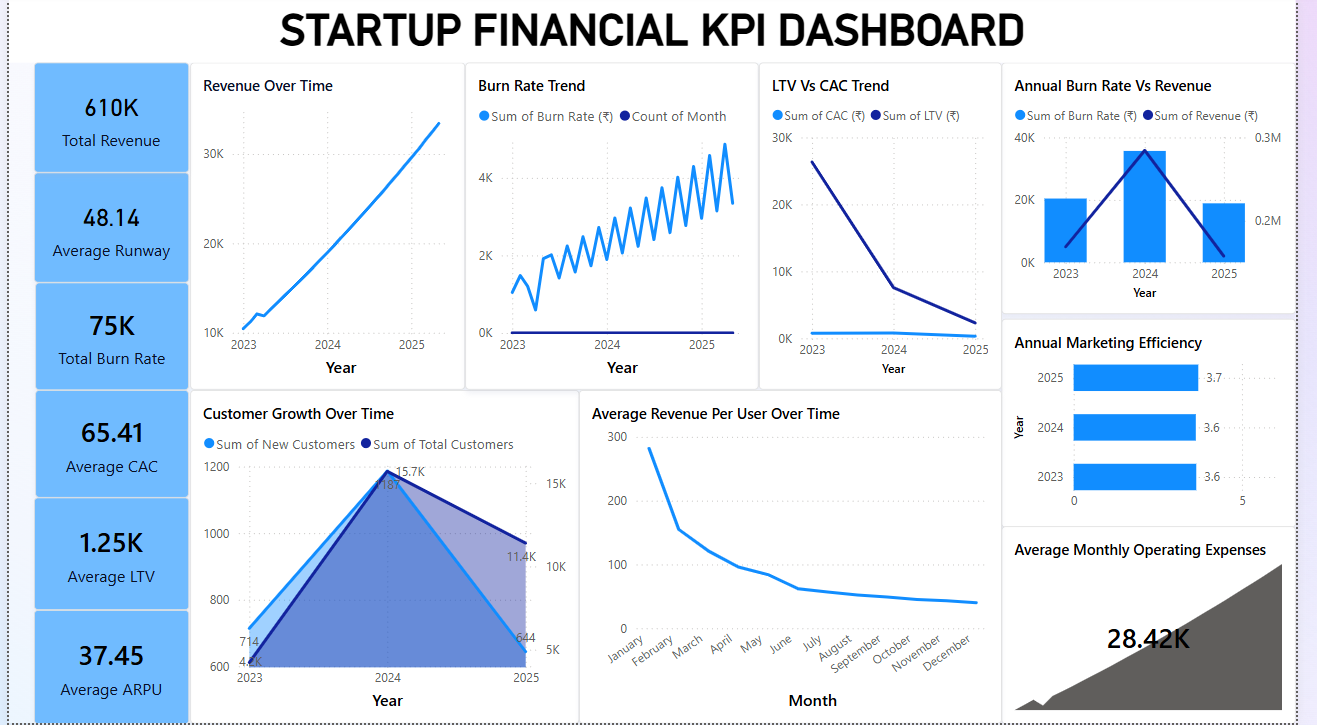

The page's visual inventory and layout, read from the dashboard file:
{"tool":"powerbi","page":{"name":"Page 1","canvas":[1280,720],"ordinal":0},"visuals":[{"type":"card","fields":{"Values":["Sheet1.Average Runway"]},"box":[24.9,171.7,154.3,109.5],"z":0},{"type":"card","fields":{"Values":["Sheet1.Total Burn Rate"]},"box":[26.1,281.1,153,107],"z":1000},{"type":"card","fields":{"Values":["Sheet1.Average CAC"]},"box":[26.1,388.1,153,107],"z":2000},{"type":"card","fields":{"Values":["Sheet1.Average LTV"]},"box":[24.9,495.1,154.3,112],"z":3000},{"type":"lineChart","title":"Revenue Over Time","fields":{"Category":["Sheet1.Month.Variation.Date Hierarchy.Year","Sheet1.Month.Variation.Date Hierarchy.Quarter","Sheet1.Month.Variation.Date Hierarchy.Month","Sheet1.Month.Variation.Date Hierarchy.Day"],"Y":["Sum(Sheet1.Revenue (₹))"]},"box":[180.4,62.2,273.7,325.9],"z":4000},{"type":"card","fields":{"Values":["Sheet1.Average ARPU"]},"box":[24.9,607.1,154.3,113.2],"z":5000},{"type":"lineStackedColumnComboChart","title":"Annual Burn Rate Vs Revenue","fields":{"Category":["Sheet1.Month.Variation.Date Hierarchy.Year","Sheet1.Month.Variation.Date Hierarchy.Quarter","Sheet1.Month.Variation.Date Hierarchy.Month","Sheet1.Month.Variation.Date Hierarchy.Day"],"Y2":["Sum(Sheet1.Revenue (₹))"],"Y":["Sum(Sheet1.Burn Rate (₹))"]},"box":[987.9,62.6,292.4,250.2],"z":6000},{"type":"clusteredBarChart","title":"Annual Marketing Efficiency","fields":{"Y":["Sheet1.Marketing Efficiency"],"Category":["Sheet1.Month.Variation.Date Hierarchy.Year"]},"box":[987.9,317.2,292.4,208],"z":7000},{"type":"areaChart","title":" Customer Growth Over Time","fields":{"Category":["Sheet1.Month.Variation.Date Hierarchy.Year","Sheet1.Month.Variation.Date Hierarchy.Quarter","Sheet1.Month.Variation.Date Hierarchy.Month","Sheet1.Month.Variation.Date Hierarchy.Day"],"Y":["Sum(Sheet1.New Customers)"],"Y2":["Sum(Sheet1.Total Customers)"]},"box":[180.4,388.5,387,331.7],"z":8000},{"type":"kpi","title":"Average Monthly Operating Expenses","fields":{"Indicator":["Avg(Sheet1.Operating Expenses (₹))"],"TrendLine":["Sheet1.Month"]},"box":[987.9,523.8,292.4,196.4],"z":9000},{"type":"textbox","box":[0,0,1280.3,62.6],"z":10000},{"type":"lineChart","title":"Burn Rate Trend","fields":{"Y":["Sum(Sheet1.Burn Rate (₹))","CountNonNull(Sheet1.Month)"],"Category":["Sheet1.Month.Variation.Date Hierarchy.Year","Sheet1.Month.Variation.Date Hierarchy.Month","Sheet1.Month.Variation.Date Hierarchy.Day"]},"box":[454,62.2,292.3,325.9],"z":11000},{"type":"lineChart","title":"LTV Vs CAC Trend","fields":{"Category":["Sheet1.Month.Variation.Date Hierarchy.Year","Sheet1.Month.Variation.Date Hierarchy.Quarter","Sheet1.Month.Variation.Date Hierarchy.Month","Sheet1.Month.Variation.Date Hierarchy.Day"],"Y":["Sum(Sheet1.CAC (₹))","Sum(Sheet1.LTV (₹))"]},"box":[746.4,62.2,241.3,325.9],"z":12000},{"type":"lineChart","title":"Average Revenue Per User Over Time","fields":{"Category":["Sheet1.Month.Variation.Date Hierarchy.Month"],"Y":["Sum(Sheet1.ARPU (₹))"]},"box":[567.2,388.1,420.5,332.1],"z":13000},{"type":"card","fields":{"Values":["Sheet1.Total Revenue"]},"box":[24.9,62.2,154.3,109.5],"z":14000}]}

Visuals, with their boxes in screenshot pixels (x1, y1, x2, y2), scaled from the page's 1280x720 canvas onto the 1317x725 screenshot:
card - Sheet1.Average Runway: left=26, top=173, right=184, bottom=283
card - Sheet1.Total Burn Rate: left=27, top=283, right=184, bottom=391
card - Sheet1.Average CAC: left=27, top=391, right=184, bottom=499
card - Sheet1.Average LTV: left=26, top=499, right=184, bottom=611
"Revenue Over Time" lineChart: left=186, top=63, right=467, bottom=391
card - Sheet1.Average ARPU: left=26, top=611, right=184, bottom=724
"Annual Burn Rate Vs Revenue" lineStackedColumnComboChart: left=1016, top=63, right=1316, bottom=315
"Annual Marketing Efficiency" clusteredBarChart: left=1016, top=319, right=1316, bottom=529
" Customer Growth Over Time" areaChart: left=186, top=391, right=584, bottom=724
"Average Monthly Operating Expenses" kpi: left=1016, top=527, right=1316, bottom=724
textbox: left=0, top=0, right=1316, bottom=63
"Burn Rate Trend" lineChart: left=467, top=63, right=768, bottom=391
"LTV Vs CAC Trend" lineChart: left=768, top=63, right=1016, bottom=391
"Average Revenue Per User Over Time" lineChart: left=584, top=391, right=1016, bottom=724
card - Sheet1.Total Revenue: left=26, top=63, right=184, bottom=173
